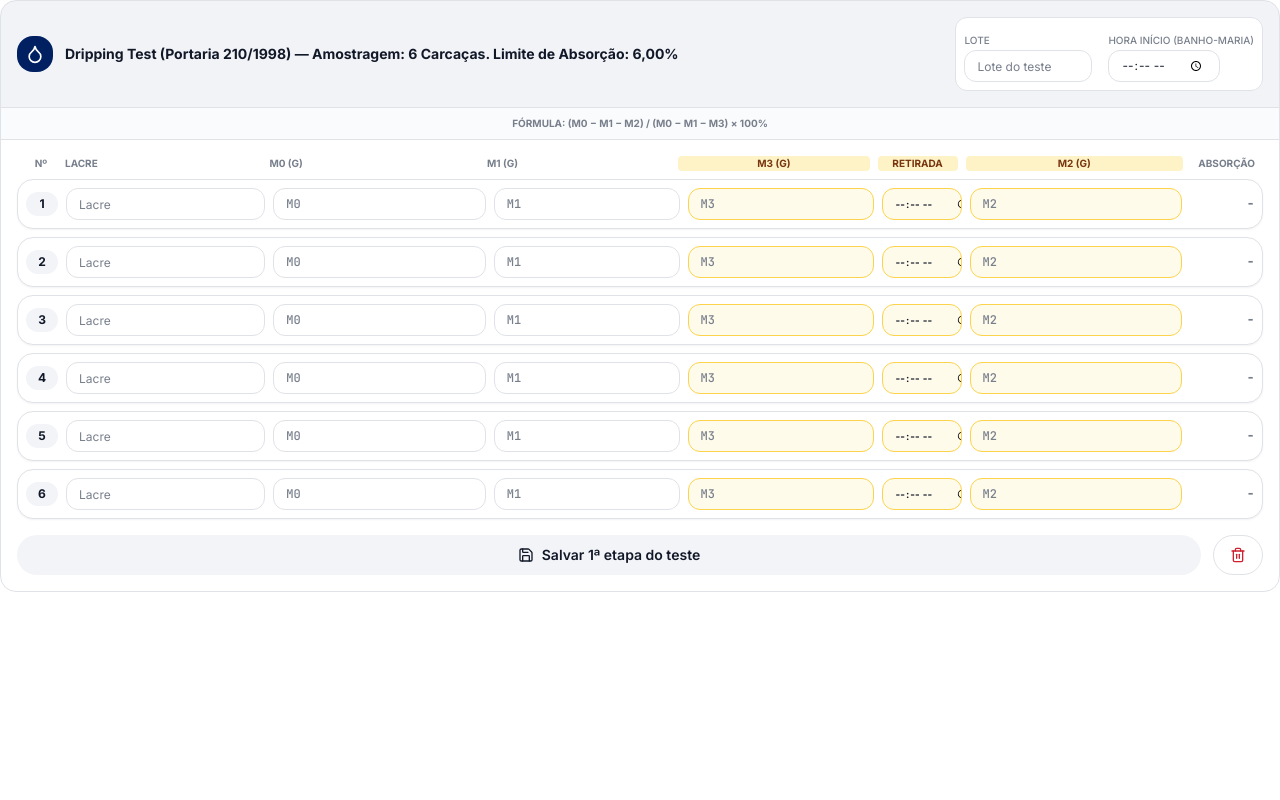
B) Dripping Test — tela › preencher só o M3 também leva o teste para a 2ª etapa
In the 1st number field with placeholder "M3": (781, 204) [688, 188, 874, 220], type "50"
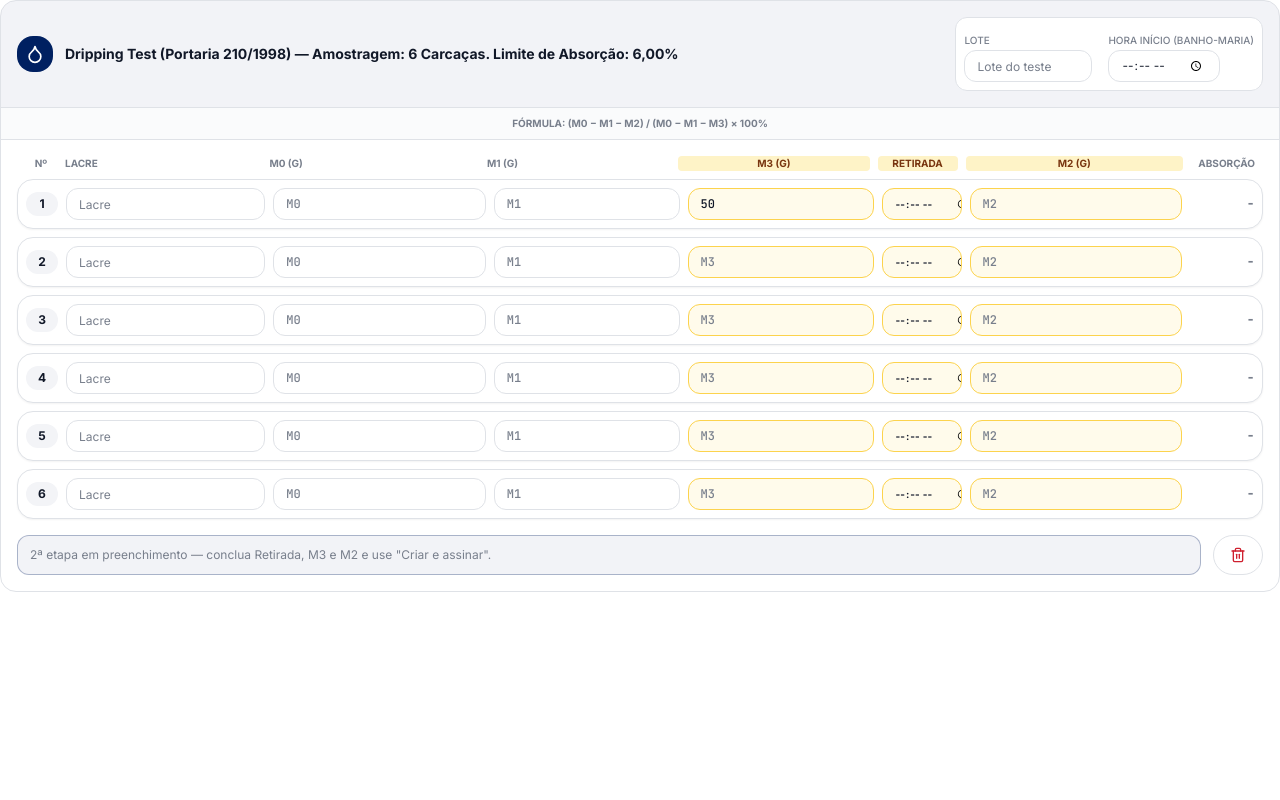
Check: the button "Salvar 1ª etapa do teste" is gone
Check: the text "2ª etapa em preenchimento" is shown, box [30, 547, 491, 562]
